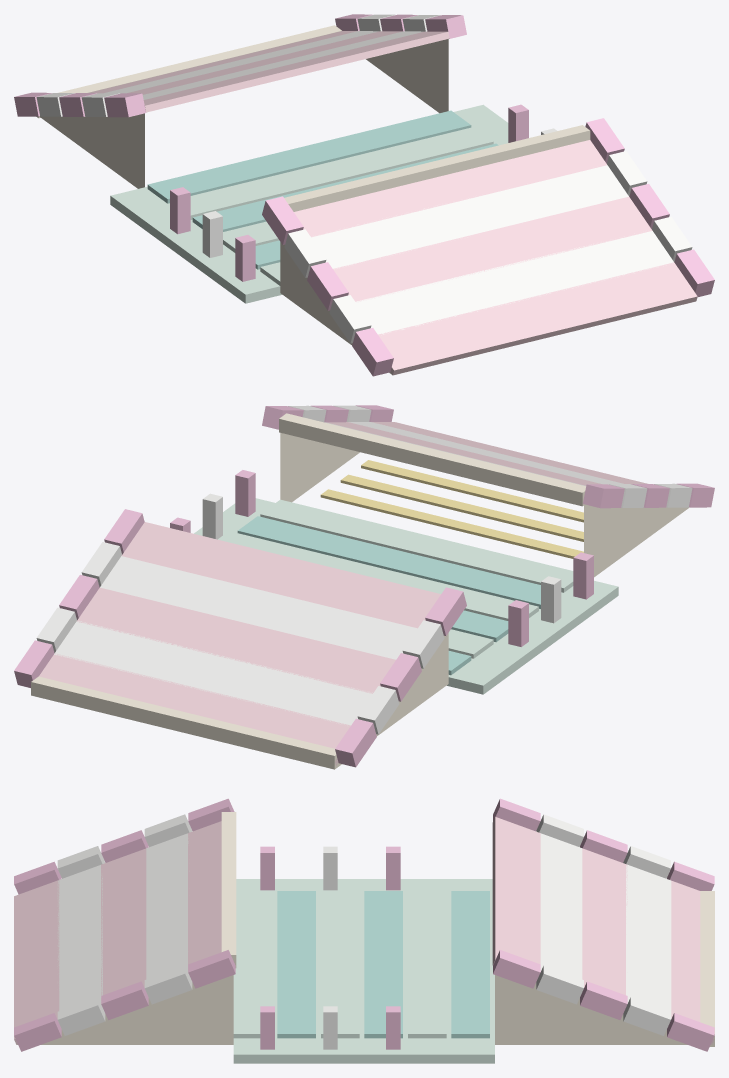
Rendered from draha_skok.glb.
The picture shows the model from 3 angles, top to bottom: view 1: azimuth 30°, elevation 25°; view 2: azimuth 150°, elevation 25°; view 3: azimuth 270°, elevation 25°; orthographic projection. The views are drawn at different scales.
Parts seen in each view (by area): view 1: DrahaSkok_pink, DrahaSkok_white, DrahaSkok_cream, DrahaSkok_mint, DrahaSkok_lol, DrahaSkok_teal; view 2: DrahaSkok_pink, DrahaSkok_white, DrahaSkok_cream, DrahaSkok_mint, DrahaSkok_lol, DrahaSkok_teal, DrahaSkok_yellow; view 3: DrahaSkok_pink, DrahaSkok_white, DrahaSkok_mint, DrahaSkok_cream, DrahaSkok_teal, DrahaSkok_lol.
Boxes of the visible parts, x1,y1,x2,y2 form: DrahaSkok_pink: (89, 31, 697, 375); DrahaSkok_white: (36, 14, 692, 343); DrahaSkok_cream: (36, 25, 590, 374); DrahaSkok_mint: (110, 104, 508, 303); DrahaSkok_lol: (14, 14, 714, 376); DrahaSkok_teal: (147, 110, 498, 269); DrahaSkok_pink: (39, 422, 647, 765); DrahaSkok_white: (36, 405, 692, 734); DrahaSkok_cream: (31, 413, 689, 769); DrahaSkok_mint: (194, 498, 618, 694); DrahaSkok_lol: (14, 405, 714, 767); DrahaSkok_teal: (237, 516, 540, 675); DrahaSkok_yellow: (320, 460, 583, 558); DrahaSkok_pink: (14, 817, 714, 1044); DrahaSkok_white: (57, 814, 671, 1049); DrahaSkok_mint: (233, 879, 494, 1063); DrahaSkok_cream: (17, 812, 714, 1046); DrahaSkok_teal: (277, 891, 489, 1038); DrahaSkok_lol: (14, 798, 714, 1051).
Bounding box in the file's own units: 8.6 × 2.22 × 14.49.
